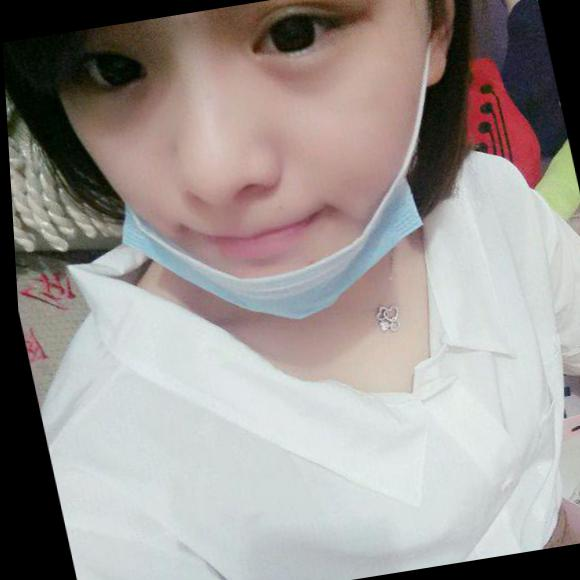WRONG: (43, 1, 487, 354)
